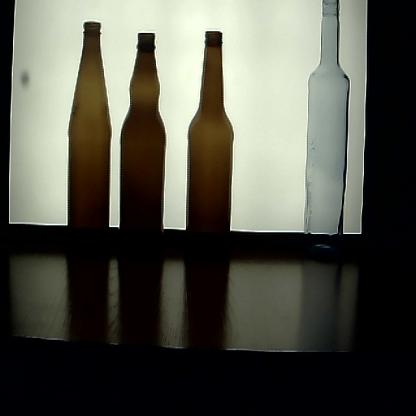Can: (299, 0, 354, 263), (63, 19, 116, 272), (184, 26, 236, 269), (118, 29, 166, 266)
